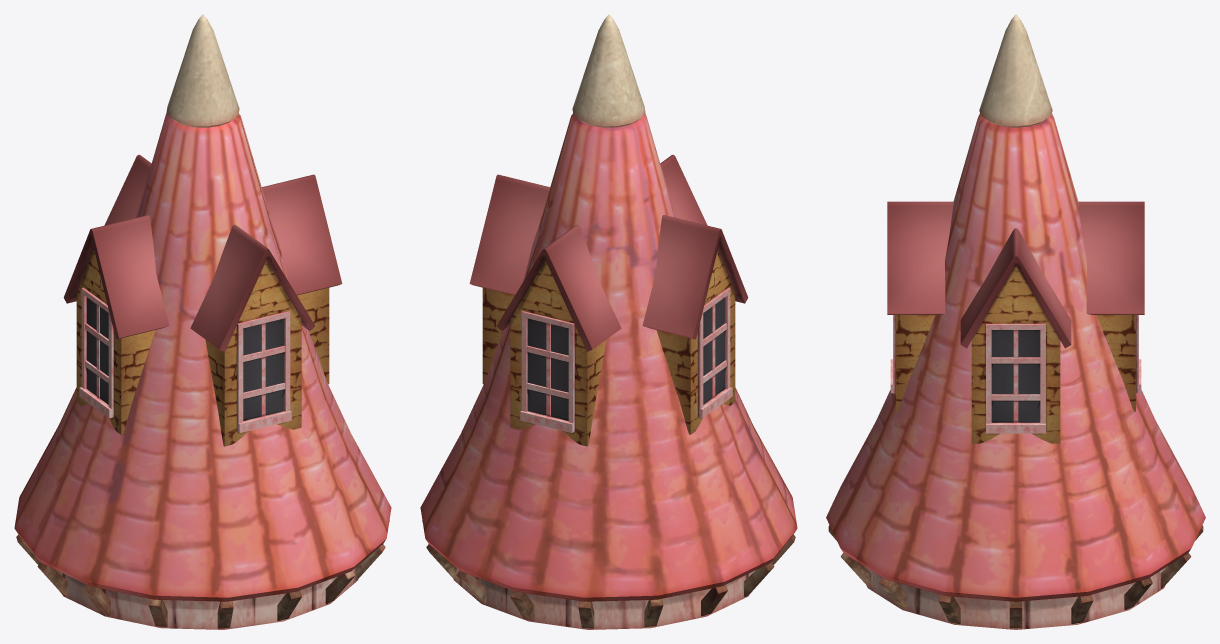
The model's file is sb_obj_outdoor024_PrincessCastle01_CircleWallTop01.fbx.
3 renders of one model, left to right at view 1: azimuth 30°, elevation 25°; view 2: azimuth 150°, elevation 25°; view 3: azimuth 270°, elevation 25°, orthographic.
Visible parts, largest first — view 1: sb_obj_outdoor024_PrincessCastle01_CircleWallTop01; view 2: sb_obj_outdoor024_PrincessCastle01_CircleWallTop01; view 3: sb_obj_outdoor024_PrincessCastle01_CircleWallTop01.
Part boxes in pixels (left/top/right/bottom): sb_obj_outdoor024_PrincessCastle01_CircleWallTop01: left=14, top=14, right=391, bottom=629; sb_obj_outdoor024_PrincessCastle01_CircleWallTop01: left=420, top=14, right=797, bottom=629; sb_obj_outdoor024_PrincessCastle01_CircleWallTop01: left=826, top=14, right=1205, bottom=629.
Size of the model in its own units: 3.72 by 5.92 by 3.72.
